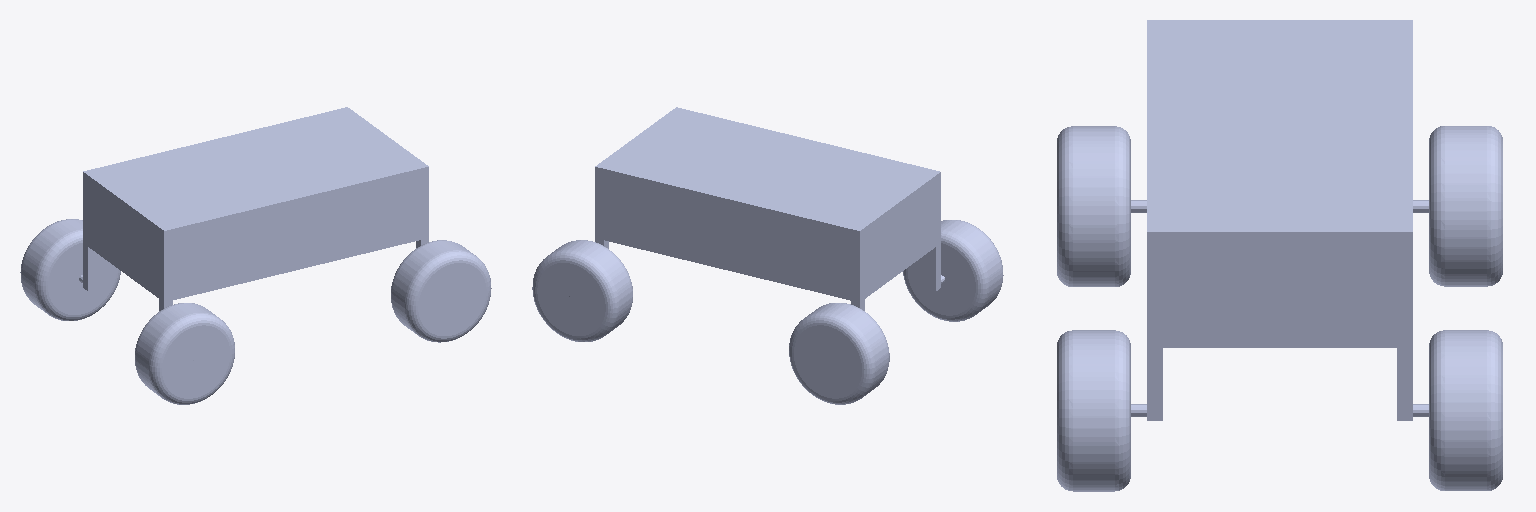
URDF robot description (rover_autonav):
<?xml version="1.0" encoding="utf-8"?>
<!-- This URDF was automatically created by SolidWorks to URDF Exporter! Originally created by [author] ([email redacted]) 
     Commit Version: 1.6.0-1-g15f4949  Build Version: 1.6.7594.29634
     For more information, please see http://wiki.ros.org/sw_urdf_exporter -->
<robot
  name="rover_autonav">
  <link
    name="base_link">
    <inertial>
      <origin
        xyz="-2.2204E-16 3.8858E-16 -0.10299"
        rpy="0 0 0" />
      <mass
        value="67.568" />
      <inertia
        ixx="1.2576"
        ixy="-8.9345E-15"
        ixz="1.1652E-14"
        iyy="3.7875"
        iyz="-2.6748E-15"
        izz="4.548" />
    </inertial>
    <visual>
      <origin
        xyz="0 0 0"
        rpy="0 0 0" />
      <geometry>
        <mesh
          filename="package://rover_autonav/meshes/base_link.STL" />
      </geometry>
      <material
        name="">
        <color
          rgba="0.79216 0.81961 0.93333 1" />
      </material>
    </visual>
    <collision>
      <origin
        xyz="0 0 0"
        rpy="0 0 0" />
      <geometry>
        <mesh
          filename="package://rover_autonav/meshes/base_link.STL" />
      </geometry>
    </collision>
  </link>

 <link name="dummy">
	</link> 
 <joint name="dummy_joint" type="fixed">
    <parent link="dummy"/>
    <child link="base_link"/>
  </joint>

  <link
    name="lbacklink">
    <inertial>
      <origin
        xyz="-7.27733231620231E-07 0.05842 1.62491302746481E-06"
        rpy="0 0 0" />
      <mass
        value="5.6739801254924" />
      <inertia
        ixx="0.0284379209888981"
        ixy="-5.75264381966658E-17"
        ixz="-3.92244964079017E-09"
        iyy="0.0446580879636162"
        iyz="5.59109627307512E-17"
        izz="0.0284379279903993" />
    </inertial>
    <visual>
      <origin
        xyz="0 0 0"
        rpy="0 0 0" />
      <geometry>
        <mesh
          filename="package://rover_autonav/meshes/lbacklink.STL" />
      </geometry>
      <material
        name="">
        <color
          rgba="0.792156862745098 0.819607843137255 0.933333333333333 1" />
      </material>
    </visual>
    <collision>
      <origin
        xyz="0 0 0"
        rpy="0 0 0" />
      <geometry>
        <mesh
          filename="package://rover_autonav/meshes/lbacklink.STL" />
      </geometry>
    </collision>
  </link>
  <gazebo reference="lbacklink">
    <material>Gazebo/Black</material>
  </gazebo>
  <joint
    name="backleft"
    type="continuous">
    <origin
      xyz="-0.38078 -0.35179 -0.31801"
      rpy="0 0 0" />
    <parent
      link="base_link" />
    <child
      link="lbacklink" />
    <axis
      xyz="0 1 0" />
    <limit
      effort="1000000"
      velocity="1000000" />
  </joint>
  <link
    name="rbacklink">
    <inertial>
      <origin
        xyz="5.02792962708831E-07 -0.05842 -1.70796289178377E-06"
        rpy="0 0 0" />
      <mass
        value="5.6739801254924" />
      <inertia
        ixx="0.0284379200707492"
        ixy="-5.63682702496539E-17"
        ixz="-2.84854228166472E-09"
        iyy="0.0446580879636162"
        iyz="5.62895689764963E-17"
        izz="0.0284379289085482" />
    </inertial>
    <visual>
      <origin
        xyz="0 0 0"
        rpy="0 0 0" />
      <geometry>
        <mesh
          filename="package://rover_autonav/meshes/rbacklink.STL" />
      </geometry>
      <material
        name="">
        <color
          rgba="0.792156862745098 0.819607843137255 0.933333333333333 1" />
      </material>
    </visual>
    <collision>
      <origin
        xyz="0 0 0"
        rpy="0 0 0" />
      <geometry>
        <mesh
          filename="package://rover_autonav/meshes/rbacklink.STL" />
      </geometry>
    </collision>
  </link>
  <gazebo reference="rbacklink">
    <material>Gazebo/Black</material>
  </gazebo>
  <joint
    name="backright"
    type="continuous">
    <origin
      xyz="-0.38115 0.35179 -0.31701"
      rpy="0 0 0" />
    <parent
      link="base_link" />
    <child
      link="rbacklink" />
    <axis
      xyz="0 1 0" />
    <limit
      effort="1000000"
      velocity="1000000" />
  </joint>
  <link
    name="lfrontlink">
    <inertial>
      <origin
        xyz="7.29369893370801E-08 0.05842 1.77893737907109E-06"
        rpy="0 0 0" />
      <mass
        value="5.6739801254924" />
      <inertia
        ixx="0.0284379192498368"
        ixy="-5.69933931600498E-17"
        ixz="4.30391359396819E-10"
        iyy="0.0446580879636162"
        iyz="5.89209747200998E-17"
        izz="0.0284379297294607" />
    </inertial>
    <visual>
      <origin
        xyz="0 0 0"
        rpy="0 0 0" />
      <geometry>
        <mesh
          filename="package://rover_autonav/meshes/lfrontlink.STL" />
      </geometry>
      <material
        name="">
        <color
          rgba="0.792156862745098 0.819607843137255 0.933333333333333 1" />
      </material>
    </visual>
    <collision>
      <origin
        xyz="0 0 0"
        rpy="0 0 0" />
      <geometry>
        <mesh
          filename="package://rover_autonav/meshes/lfrontlink.STL" />
      </geometry>
    </collision>
  </link>
  <gazebo reference="lfrontlink">
    <material>Gazebo/Grey</material>
  </gazebo>
  <joint
    name="frontleft"
    type="continuous">
    <origin
      xyz="0.38098 -0.35179 -0.31805"
      rpy="0 0 0" />
    <parent
      link="base_link" />
    <child
      link="lfrontlink" />
    <axis
      xyz="0 1 0" />
    <limit
      effort="1000000"
      velocity="1000000" />
  </joint>
  <link
    name="rfrontlink">
    <inertial>
      <origin
        xyz="-1.66413693092338E-06 -0.0584199999999999 -6.32918855159037E-07"
        rpy="0 0 0" />
      <mass
        value="5.6739801254924" />
      <inertia
        ixx="0.0284379284183329"
        ixy="-5.64546623366554E-17"
        ixz="3.49375254610767E-09"
        iyy="0.0446580879636162"
        iyz="5.51053175905783E-17"
        izz="0.0284379205609646" />
    </inertial>
    <visual>
      <origin
        xyz="0 0 0"
        rpy="0 0 0" />
      <geometry>
        <mesh
          filename="package://rover_autonav/meshes/rfrontlink.STL" />
      </geometry>
      <material
        name="">
        <color
          rgba="0.792156862745098 0.819607843137255 0.933333333333333 1" />
      </material>
    </visual>
    <collision>
      <origin
        xyz="0 0 0"
        rpy="0 0 0" />
      <geometry>
        <mesh
          filename="package://rover_autonav/meshes/rfrontlink.STL" />
      </geometry>
    </collision>
  </link>
 <gazebo reference="rfrontlink">
    <material>Gazebo/Grey</material>
  </gazebo>
  <joint
    name="frontright"
    type="continuous">
    <origin
      xyz="0.3815 0.35179 -0.31733"
      rpy="0 0 0" />
    <parent
      link="base_link" />
    <child
      link="rfrontlink" />
    <axis
      xyz="0 1 0" />
    <limit
      effort="1000000"
      velocity="1000000" />
  </joint>

</robot>

--- Facts derived from the render (not from the file) ---
Views: 3 orthographic renders of the robot side by side, from view 1: azimuth 30°, elevation 25°; view 2: azimuth 150°, elevation 25°; view 3: azimuth 270°, elevation 25°.
Model rover_autonav with 6 links and 5 joints (4 continuous, 1 fixed), rooted at dummy, posed all joints at 0.
Links seen in each view (by area): view 1: base_link, lfrontlink, lbacklink, rbacklink; view 2: base_link, rfrontlink, rbacklink, lbacklink; view 3: base_link, lfrontlink, lbacklink, rfrontlink, rbacklink.
Link boxes in pixels (x1,y1,x2,y2): base_link: [79, 107, 455, 365]; lfrontlink: [391, 240, 491, 342]; lbacklink: [135, 303, 234, 404]; rbacklink: [20, 219, 120, 320]; base_link: [568, 107, 944, 365]; rfrontlink: [532, 240, 632, 341]; rbacklink: [789, 303, 889, 404]; lbacklink: [903, 220, 1003, 321]; base_link: [1131, 20, 1428, 420]; lfrontlink: [1057, 330, 1130, 491]; lbacklink: [1057, 126, 1130, 286]; rfrontlink: [1429, 330, 1502, 490]; rbacklink: [1429, 126, 1502, 286].
Size in the robot's own frame: 1.02 by 0.7036 by 0.445 metres.
Meshes: 5 distinct files referenced, 5 mesh visuals loaded (5 binary STL).
